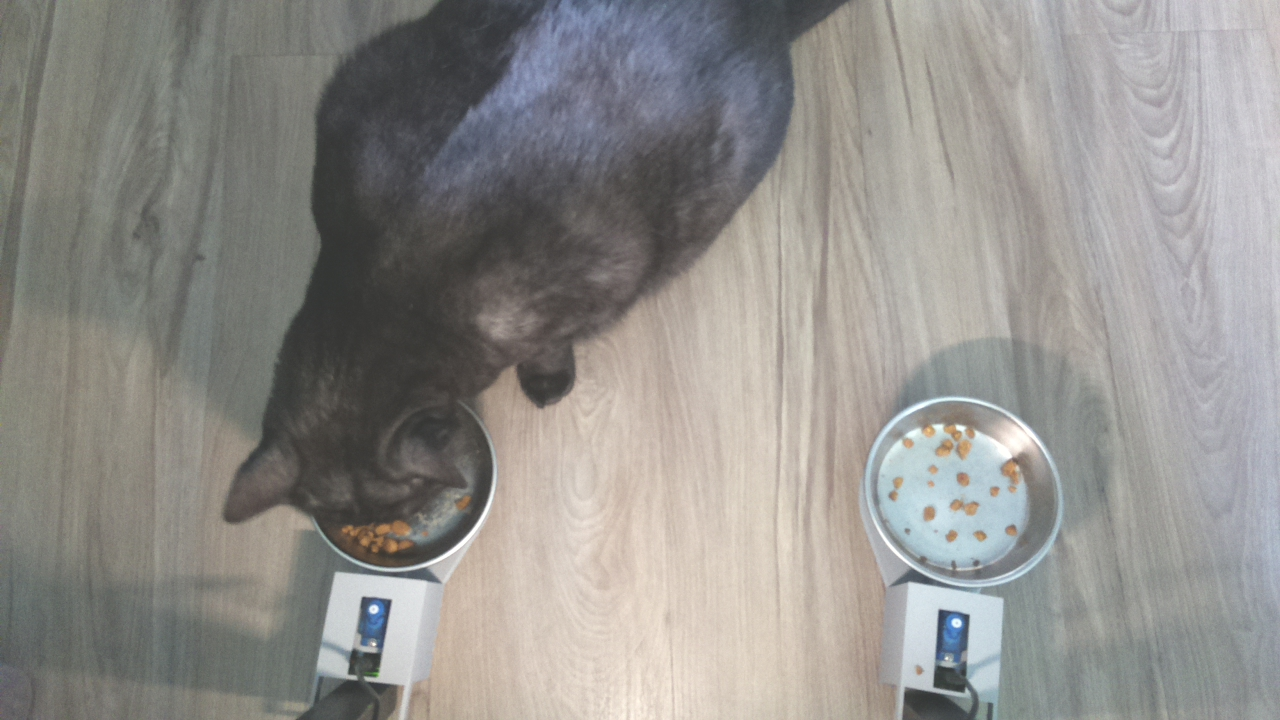open_bowl: (859, 392, 1068, 591)
saki_eating: (209, 321, 525, 590)
